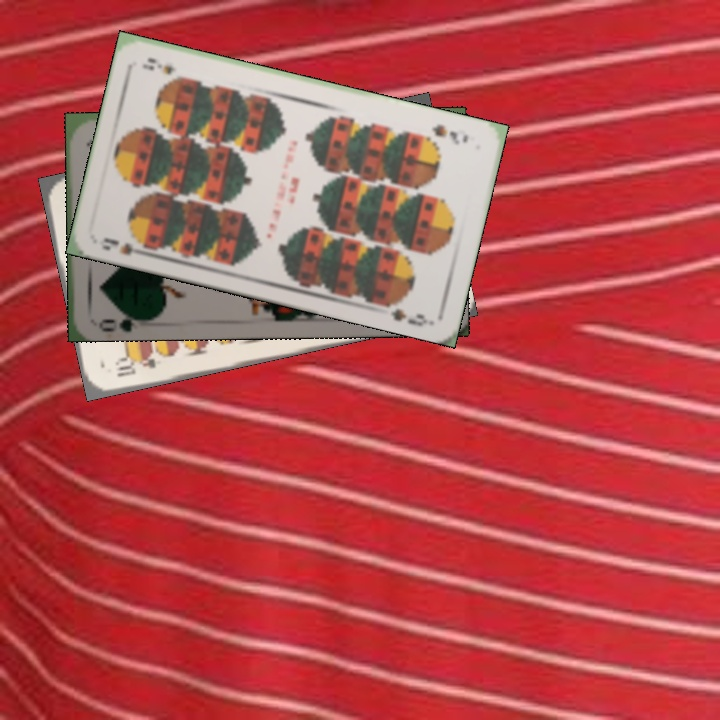E10: (110, 351, 159, 380)
GO: (95, 305, 152, 333)
S9: (98, 233, 153, 259), (428, 120, 471, 147)
